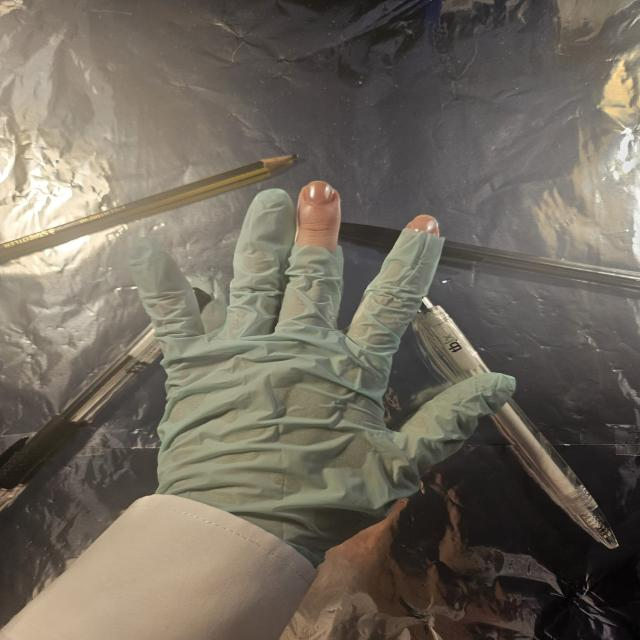gloves_damaged: (124, 179, 517, 568)
